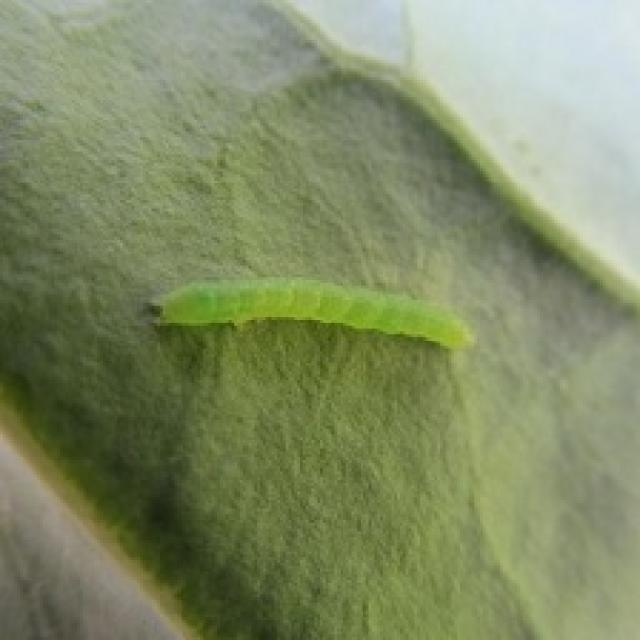worm: (147, 273, 475, 353)
